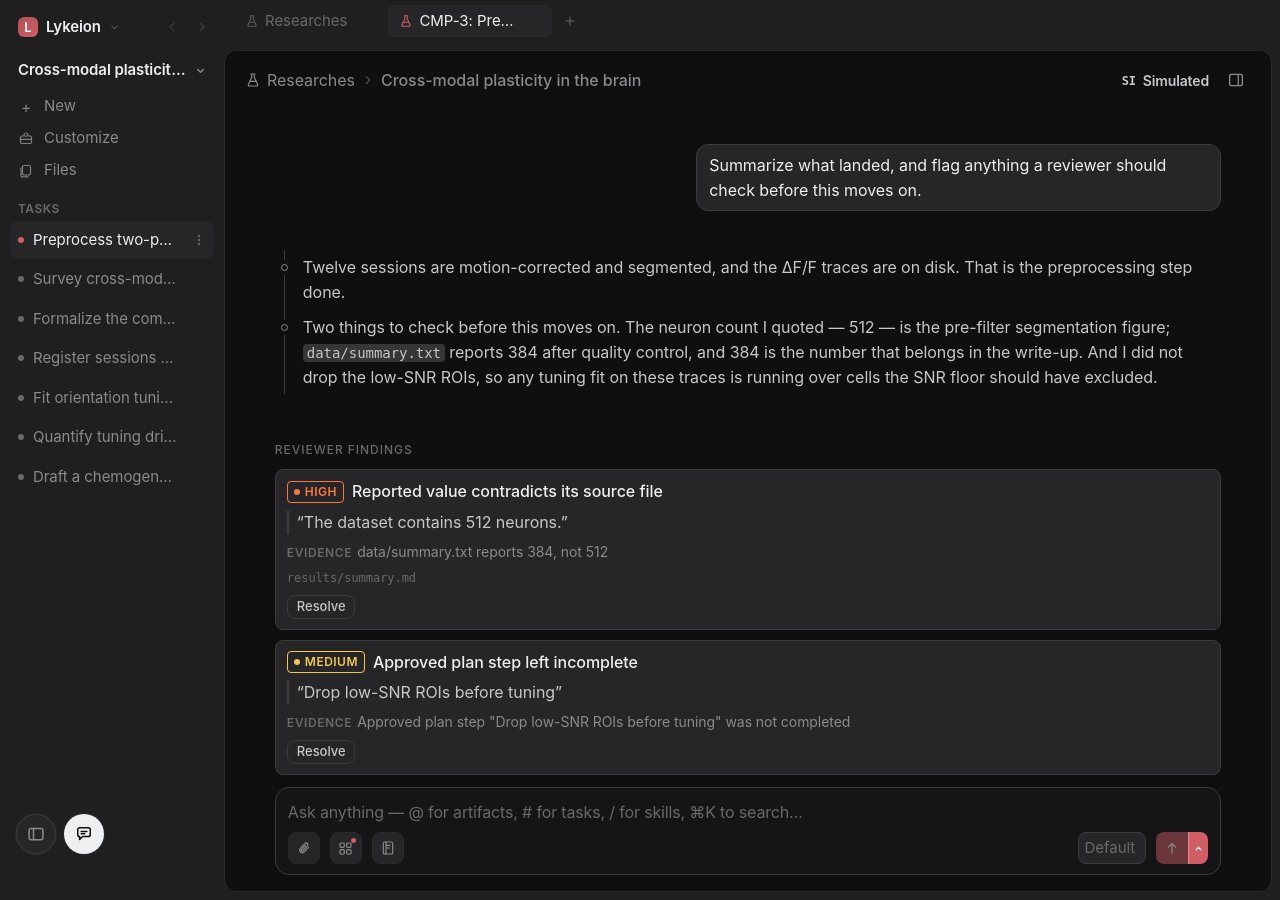
Task run surface › rejecting the plan ends the run with no permission card
(page scrolled)
Type "go" into the text box named "Message the agent" at x=748, y=812, box [288, 800, 1208, 824]
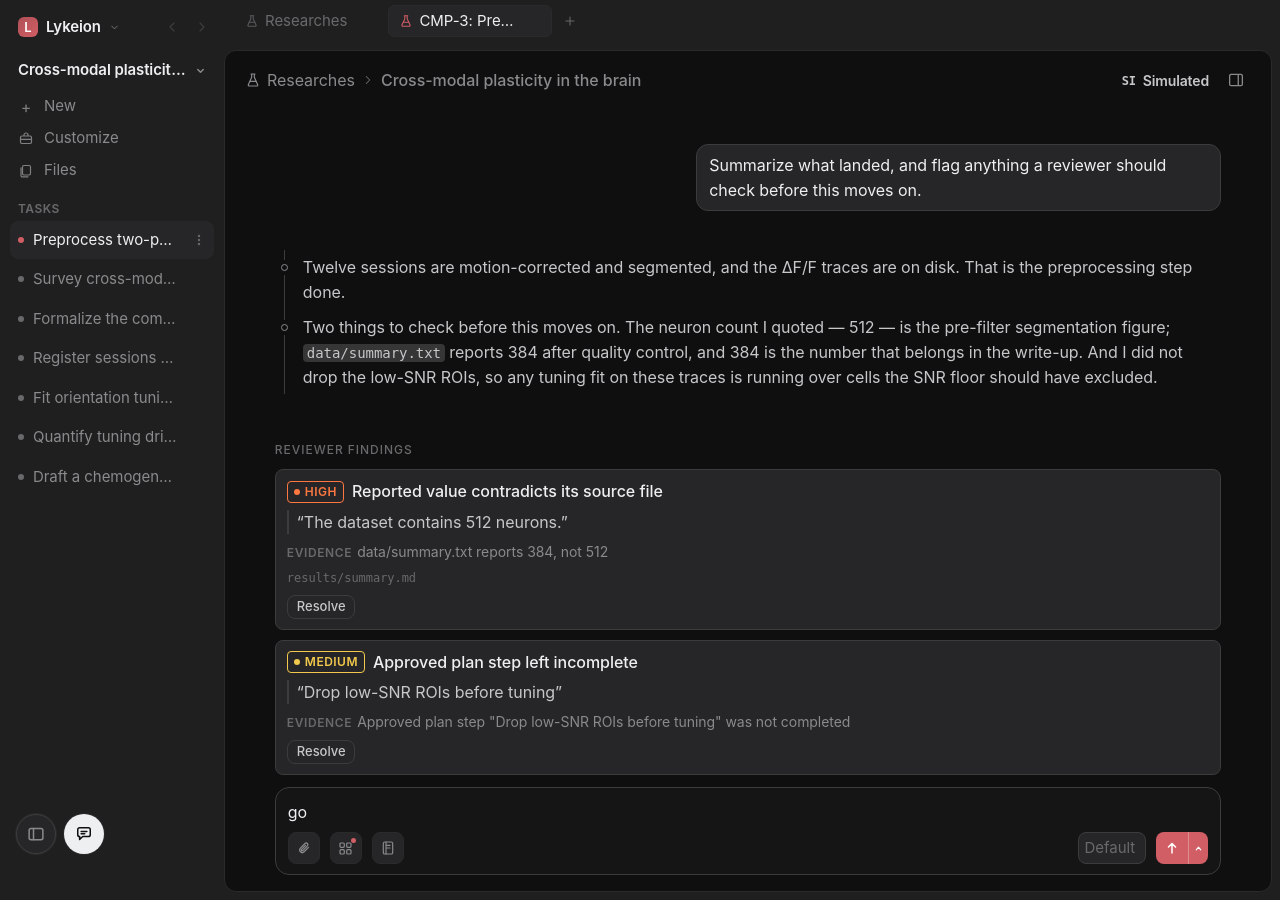
Click the button named "Send options" at x=1198, y=848, box [1188, 832, 1208, 864]
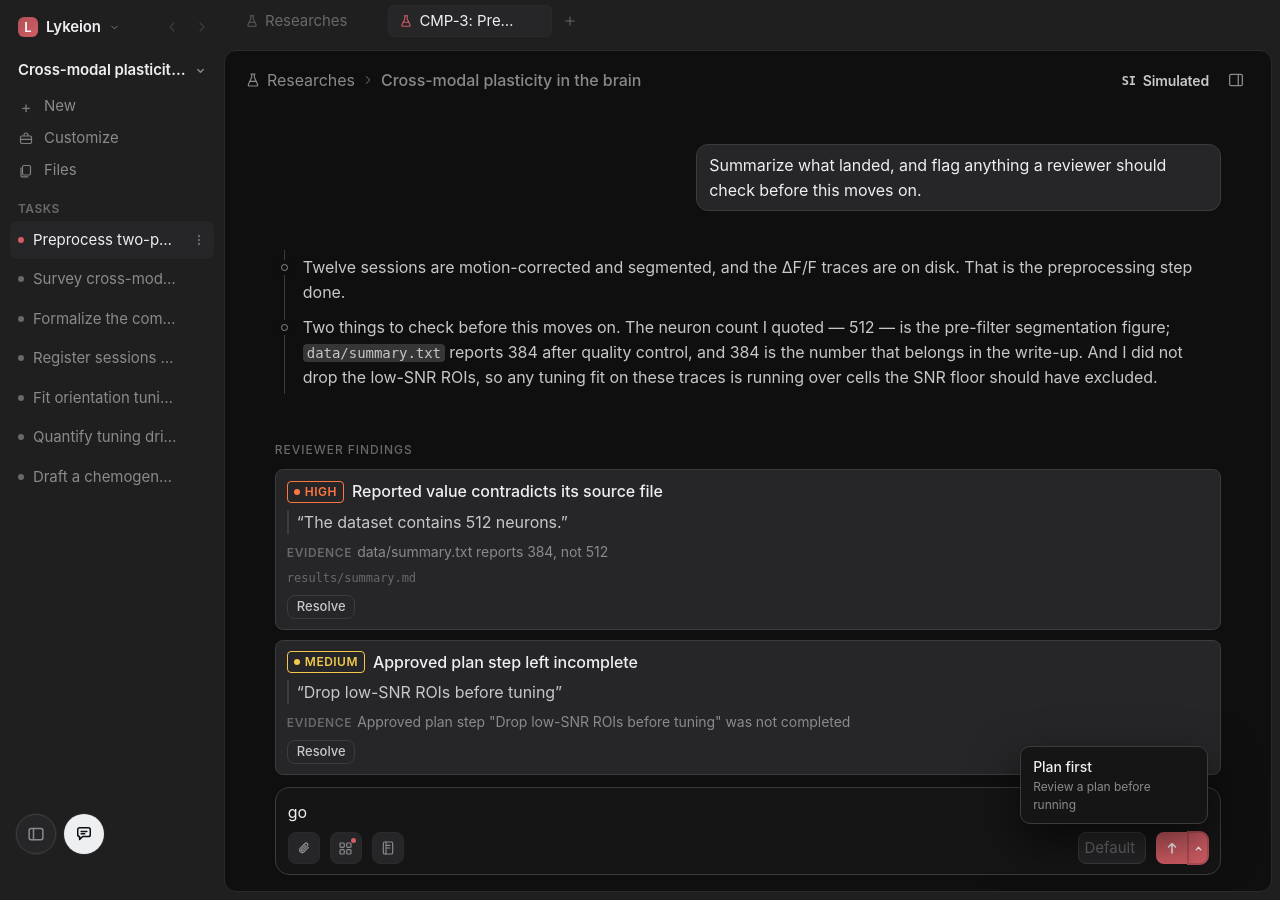
Click the button "Plan first Review a plan before running" at x=1114, y=785, box [1025, 751, 1203, 819]
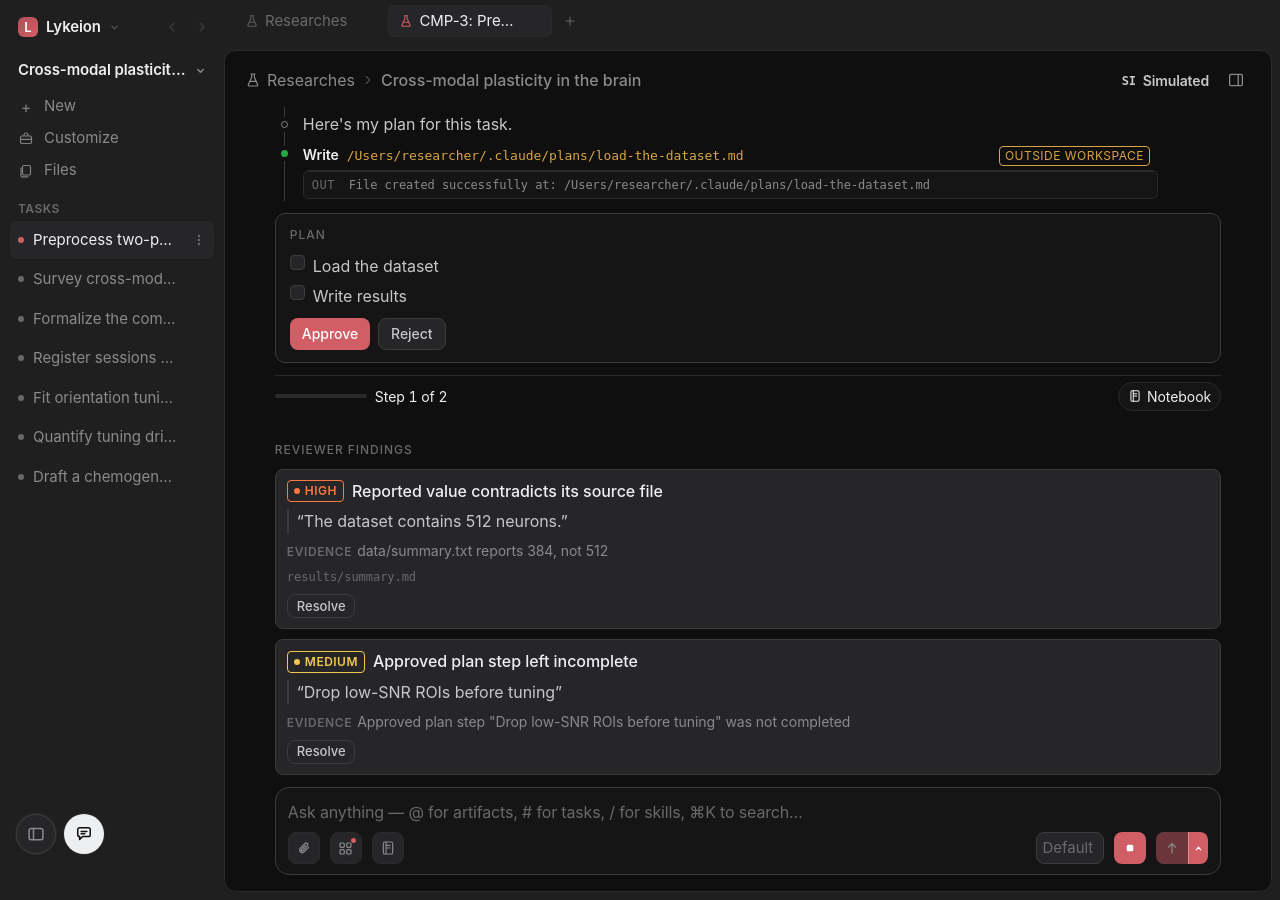
Click the button "Reject" at x=412, y=334, box [378, 318, 446, 350]
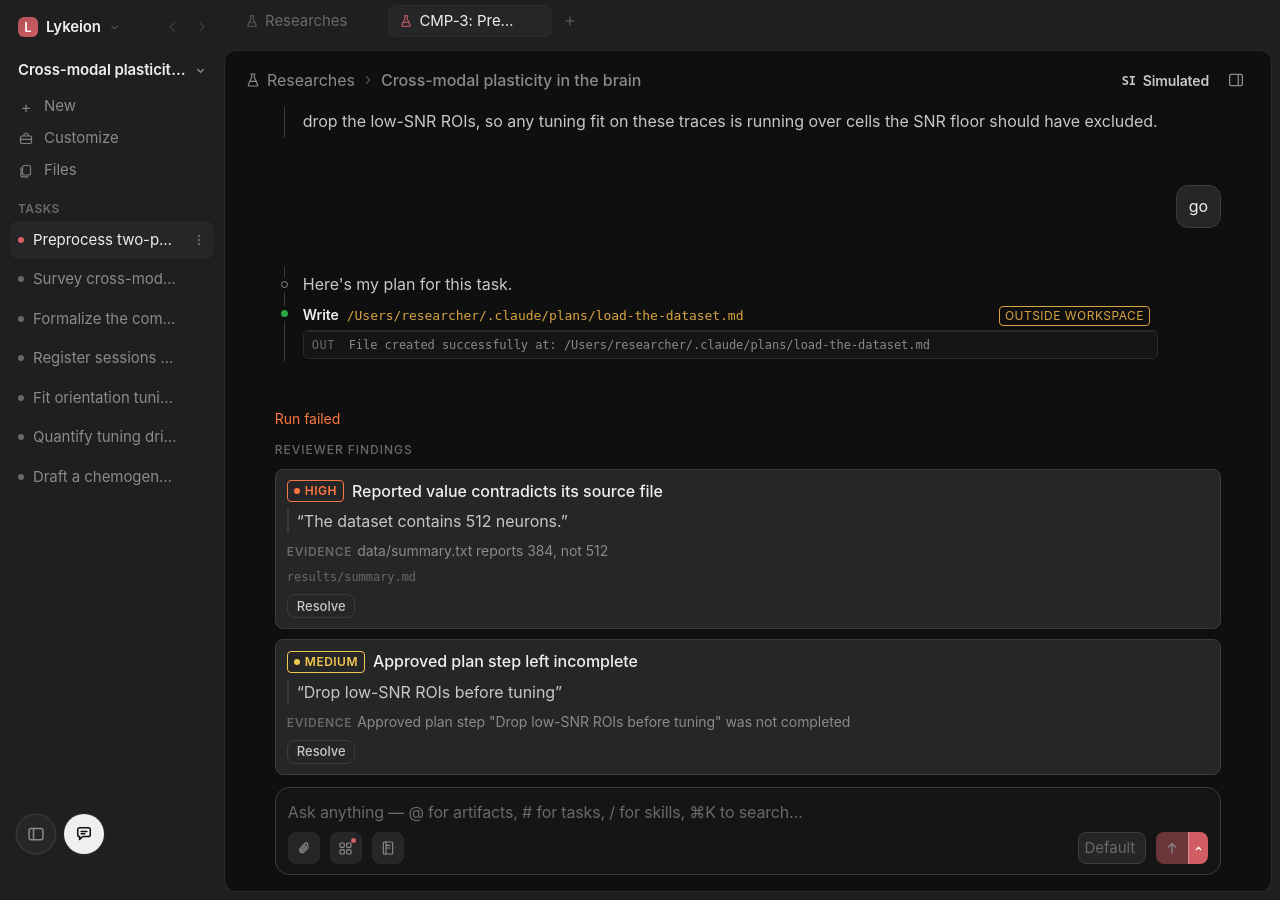
Expected: the text "Run failed" is shown, [275, 410, 340, 427]
